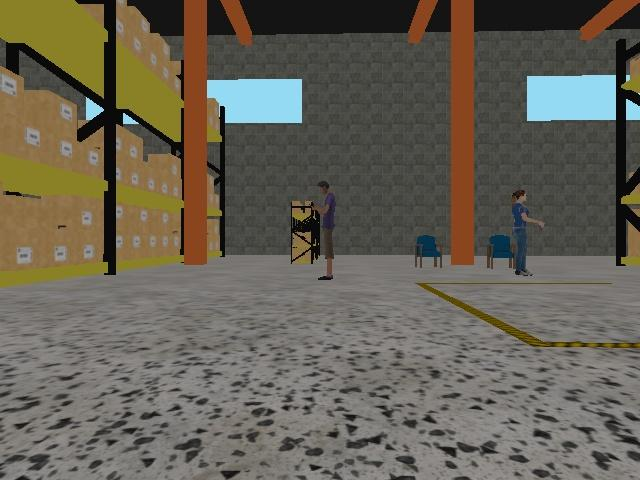chair: (413, 234, 446, 270), (485, 236, 514, 270)
person: (510, 188, 546, 278), (308, 180, 337, 283)
